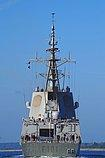MIL_Ship: (16, 11, 83, 158)
